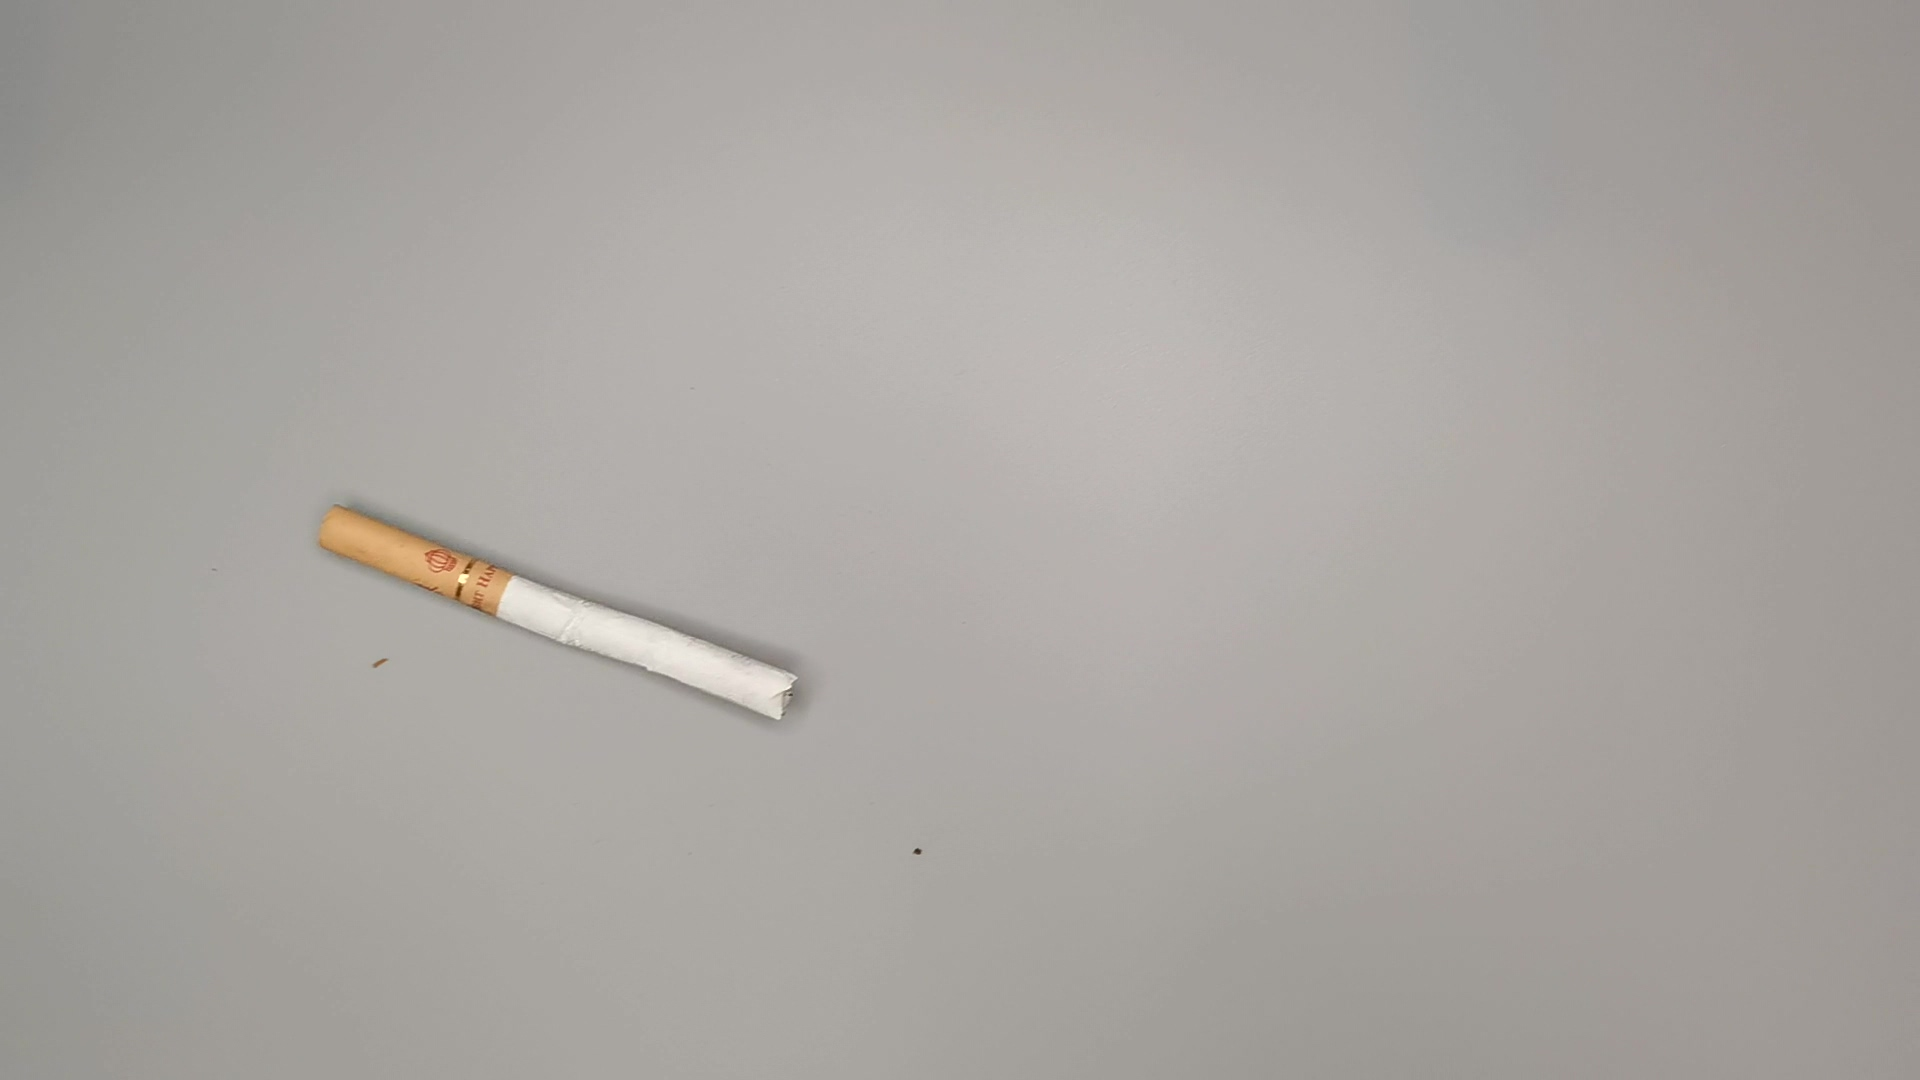cigarette: (295, 497, 812, 738)
